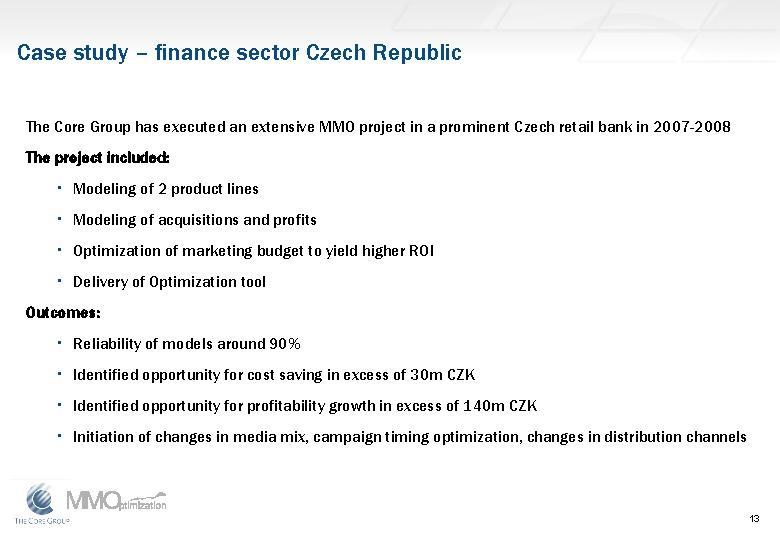paragraph: (14, 81, 775, 473)
subtitle: (23, 142, 193, 176), (15, 297, 111, 328)
title: (10, 34, 483, 91)
